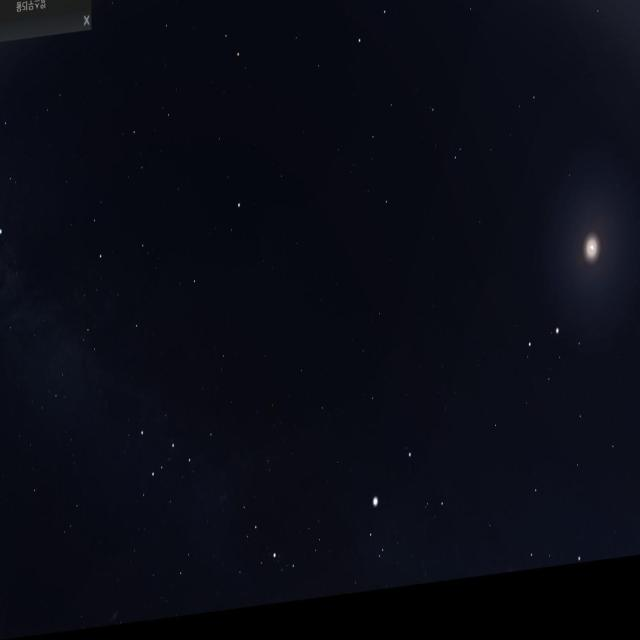cassiopeia: (128, 412, 225, 503)
moon: (570, 216, 613, 320)
